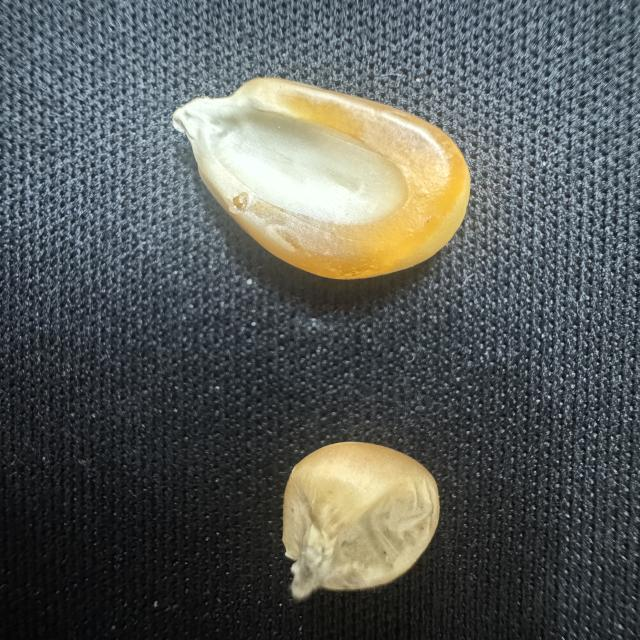Bad-Seed: (253, 433, 452, 604)
Good-Seed: (163, 73, 482, 289)
